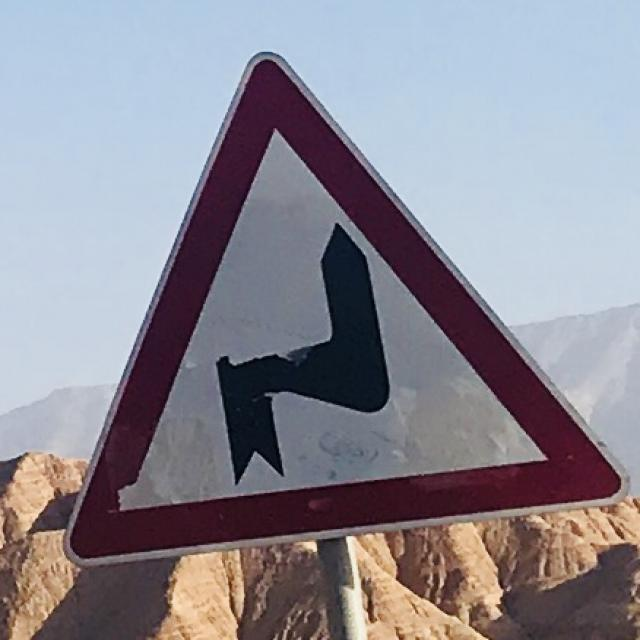right reverse bend: (65, 42, 623, 560)
